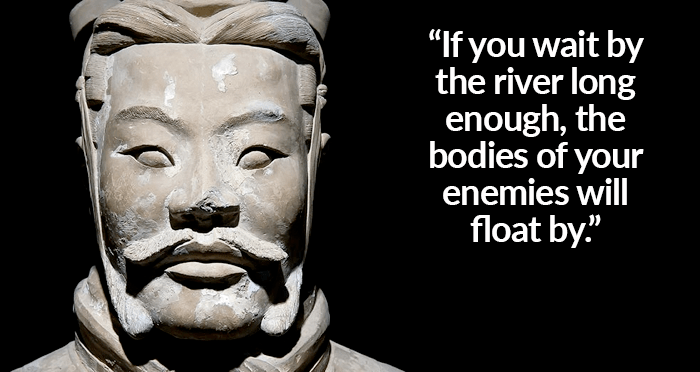latin: (426, 25, 646, 250)
